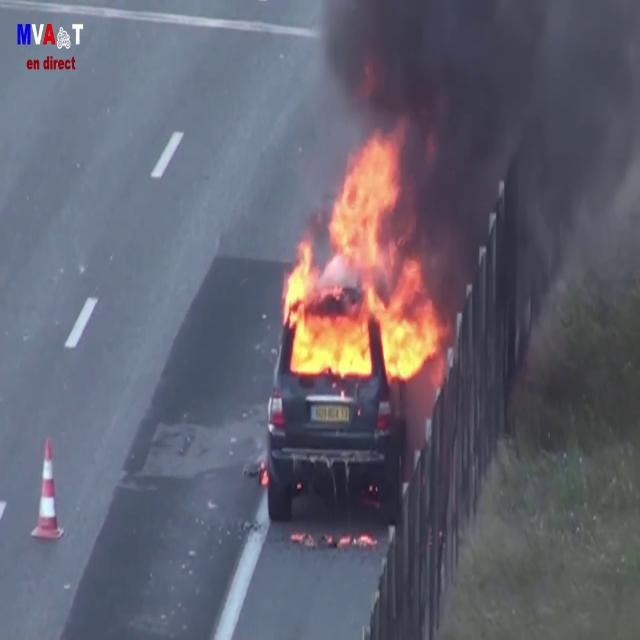Fire: (276, 123, 444, 384)
Smoke: (350, 1, 640, 336)
